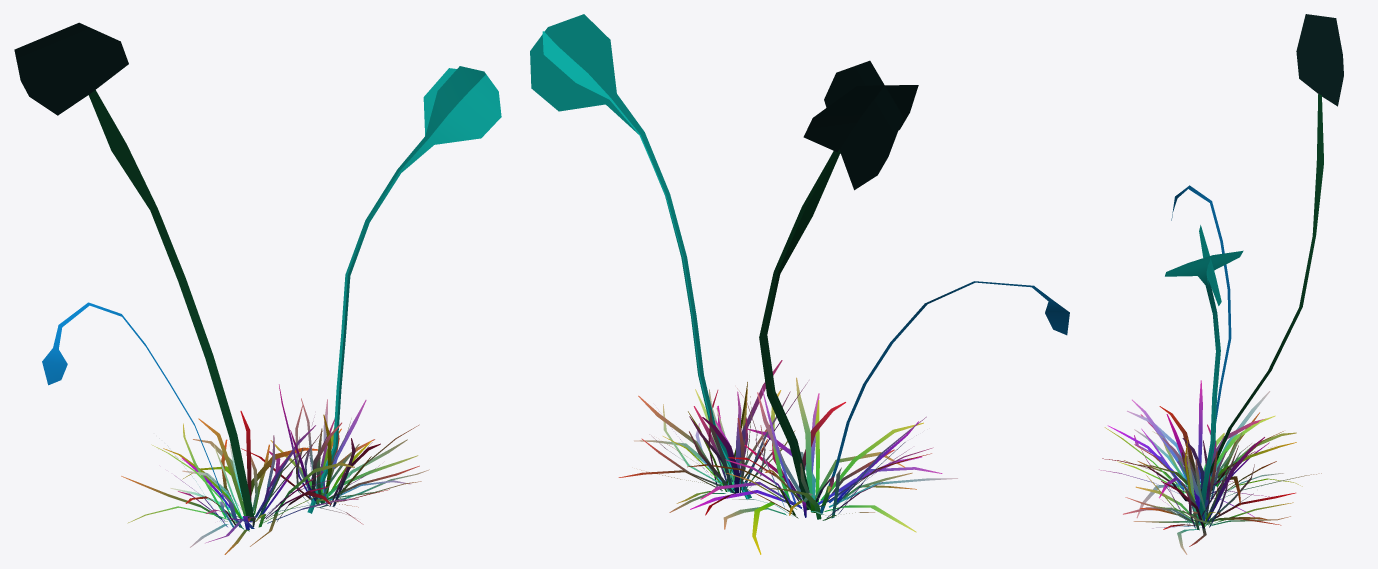
File: Sea_Thrift_vkbgaihha_Mid_vkbgaihha_VarG_LOD1.fbx
3 views of the same model, side by side, from view 1: azimuth 30°, elevation 25°; view 2: azimuth 150°, elevation 25°; view 3: azimuth 270°, elevation 25° (orthographic). The views are drawn at different scales.
Visible parts, largest first — view 1: _lfc3_VarG_LOD2; view 2: _lfc3_VarG_LOD2; view 3: _lfc3_VarG_LOD2.
Part boxes in pixels (x1=…): _lfc3_VarG_LOD2: x1=14, y1=22, x2=501, y2=554; _lfc3_VarG_LOD2: x1=530, y1=14, x2=1069, y2=554; _lfc3_VarG_LOD2: x1=1099, y1=14, x2=1343, y2=554.
Size of the model in its own units: 13.36 by 13.19 by 7.27.
